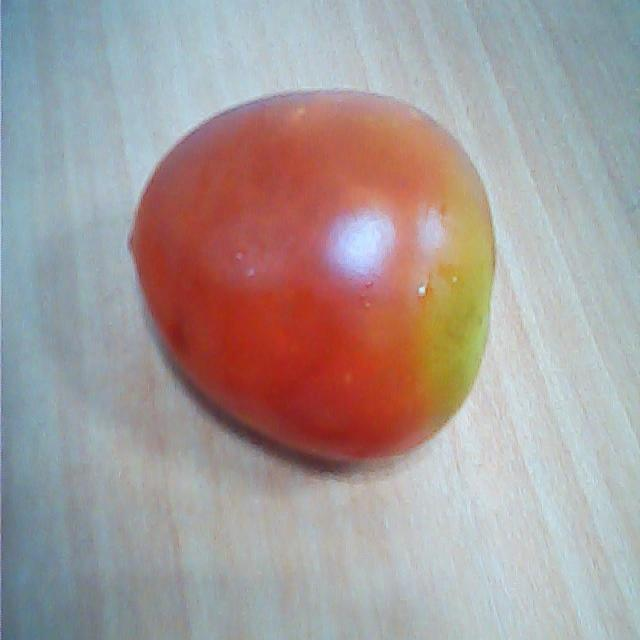verde: (128, 83, 498, 470)
